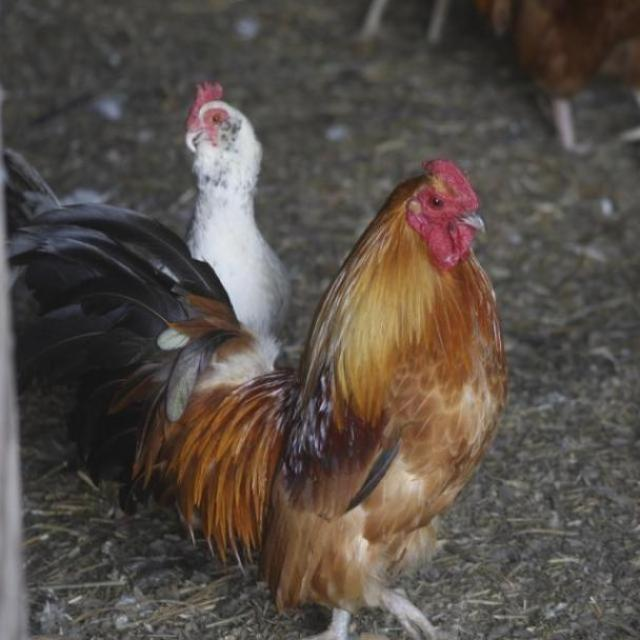Chicken: (0, 153, 500, 639), (1, 81, 294, 490), (454, 0, 640, 157)
